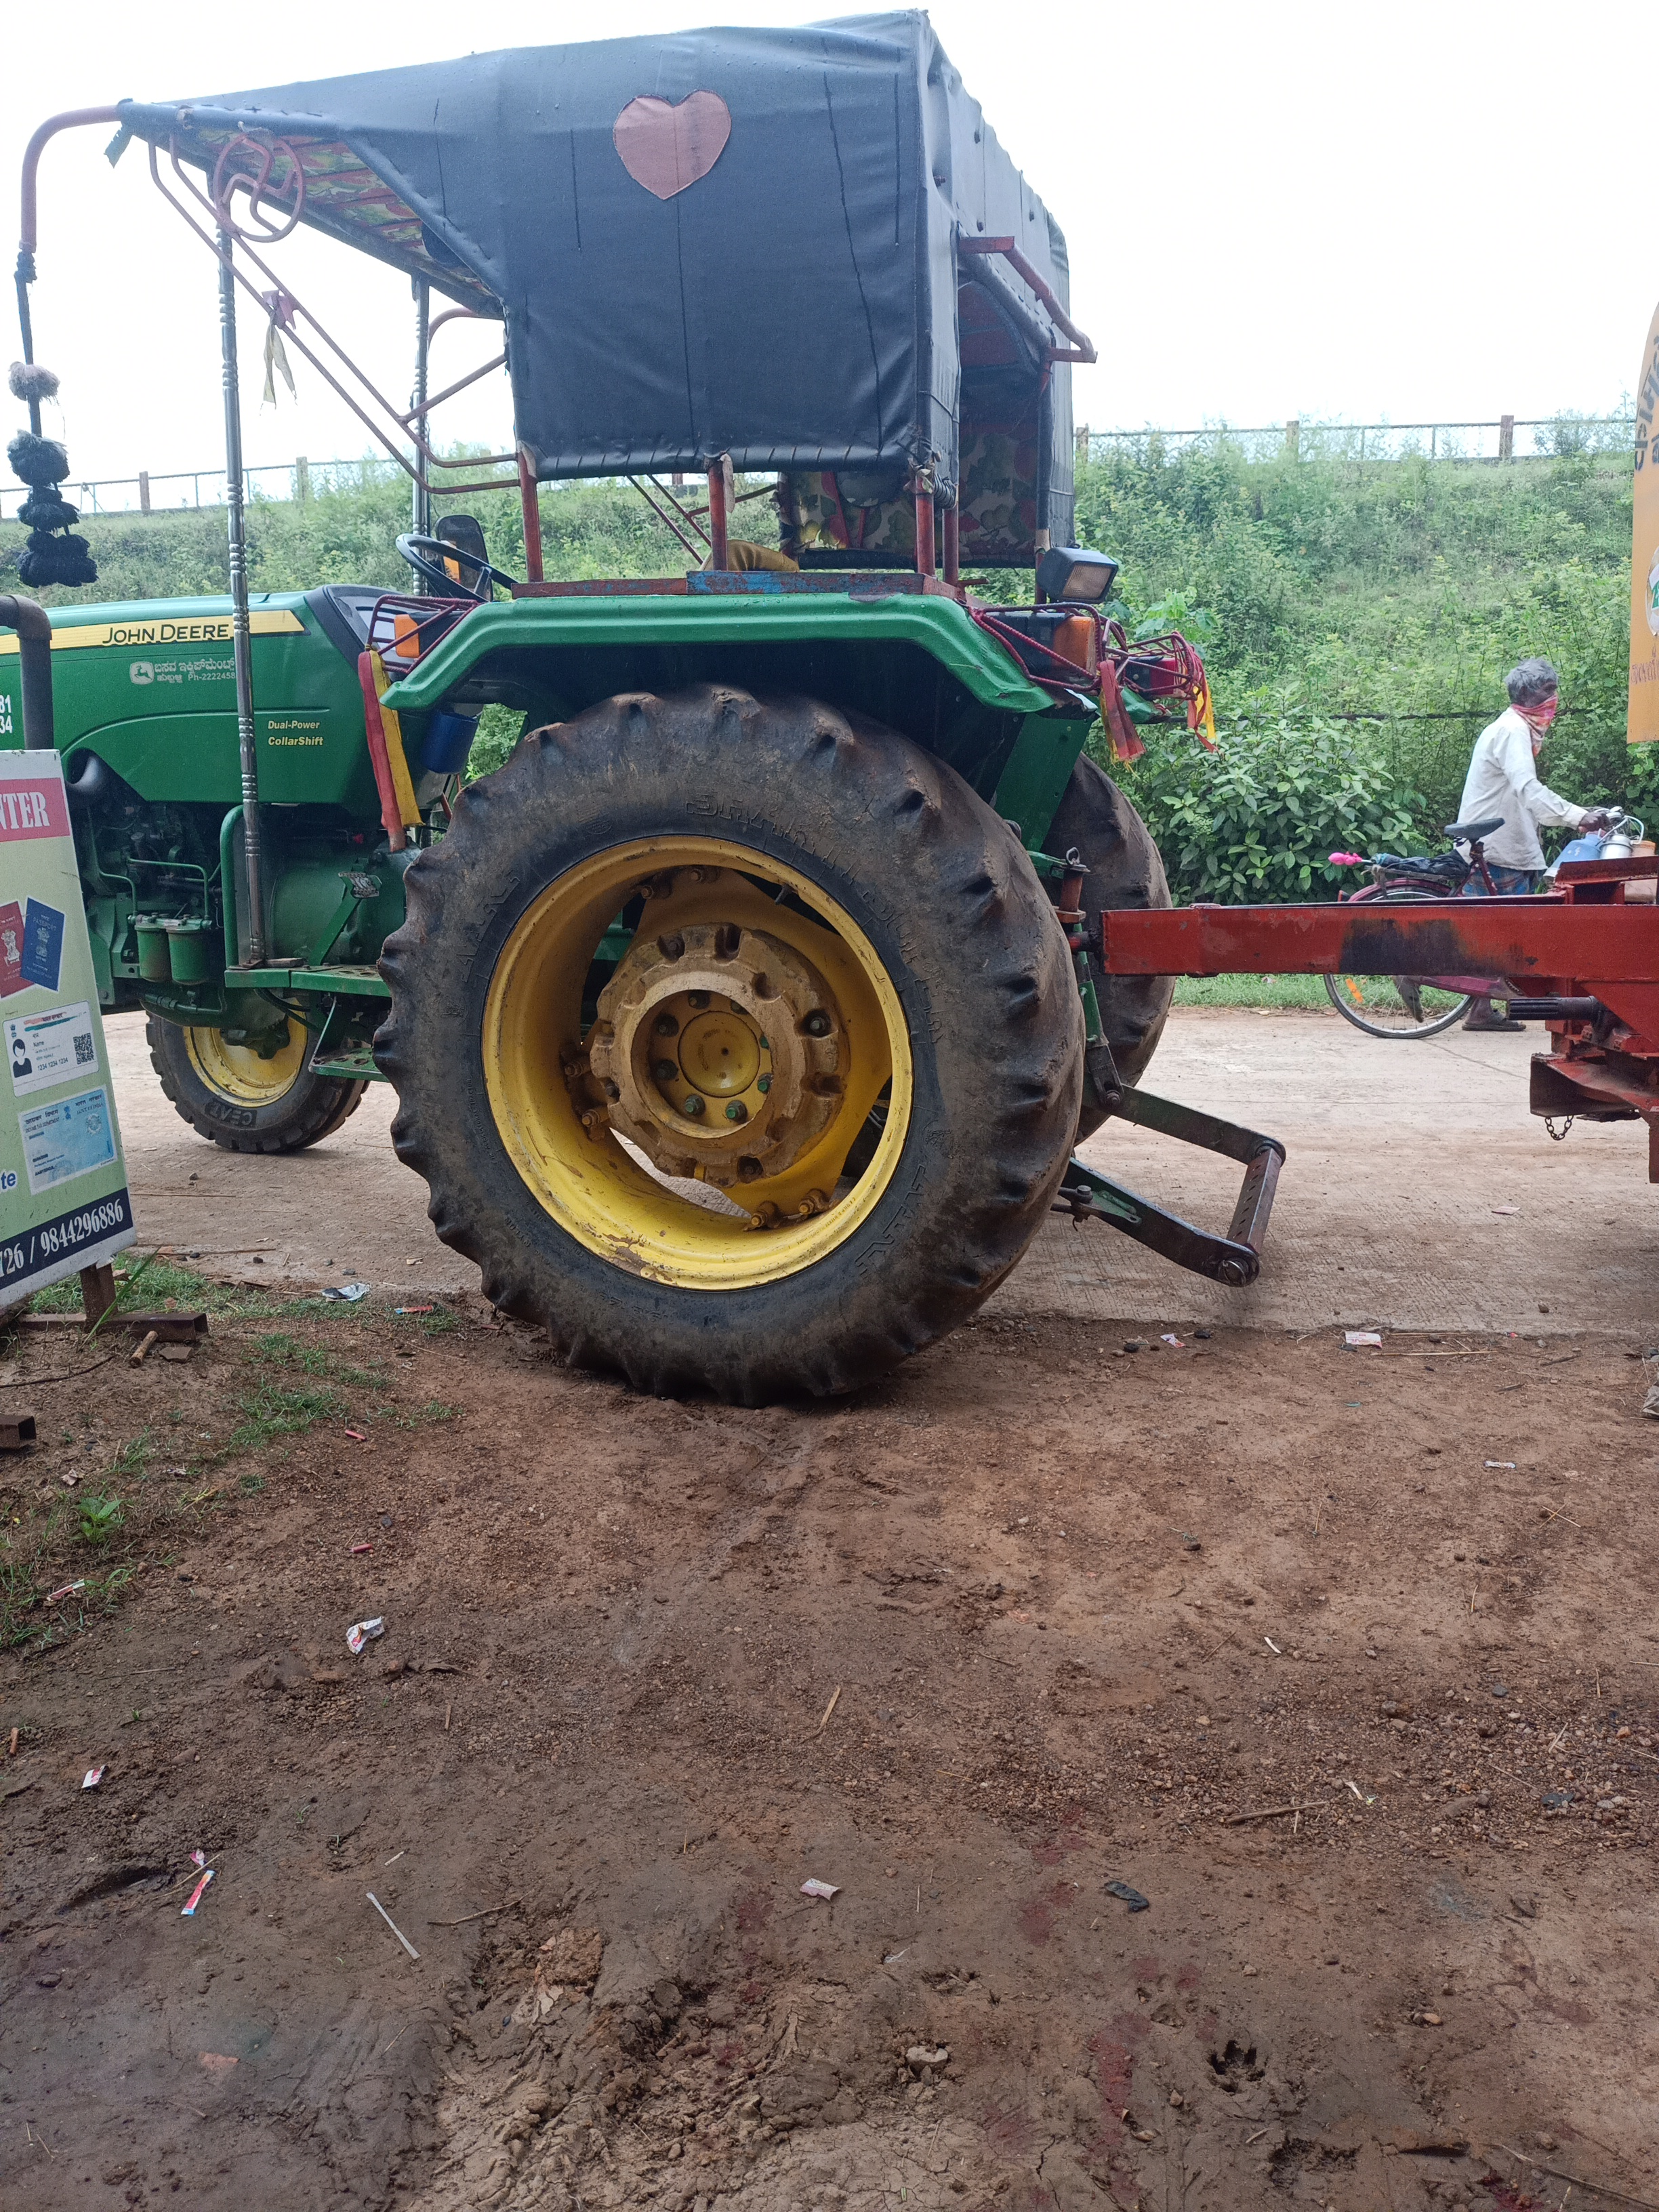tractor: (0, 0, 1659, 1416)
